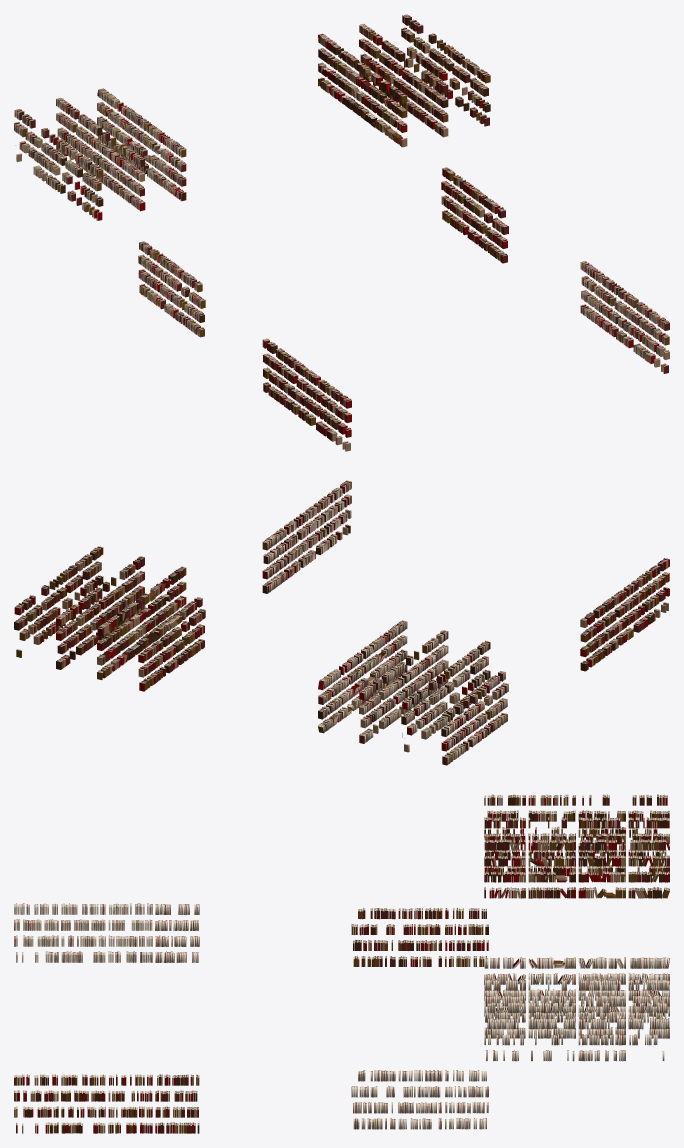
The model's file is books2.glb.
3 renders of one model, top to bottom at view 1: azimuth 30°, elevation 25°; view 2: azimuth 150°, elevation 25°; view 3: azimuth 270°, elevation 25°, orthographic. The views are drawn at different scales.
Parts seen in each view (by area): view 1: books16, books_nice_front19, books11, books9, books_side_3; view 2: books16, books_nice_front19, books11, books9, books_side_3; view 3: books16, books_nice_front19, books11, books_side_3, books9.
Boxes of the visible parts, x1=… form: books16: x1=262, y1=261, x2=669, y2=451; books_nice_front19: x1=97, y1=33, x2=407, y2=201; books11: x1=56, y1=24, x2=448, y2=211; books9: x1=14, y1=14, x2=490, y2=220; books_side_3: x1=138, y1=167, x2=508, y2=337; books16: x1=262, y1=480, x2=669, y2=671; books_nice_front19: x1=97, y1=566, x2=407, y2=733; books11: x1=56, y1=556, x2=448, y2=743; books9: x1=14, y1=546, x2=490, y2=752; books_side_3: x1=138, y1=597, x2=508, y2=765; books16: x1=14, y1=903, x2=199, y2=1133; books_nice_front19: x1=484, y1=839, x2=669, y2=1016; books11: x1=484, y1=817, x2=669, y2=1038; books_side_3: x1=351, y1=908, x2=488, y2=1129; books9: x1=484, y1=794, x2=669, y2=1061.
Bounding box in the file's own units: 26 × 8.49 × 34.22.
1 material, 1 textured.
